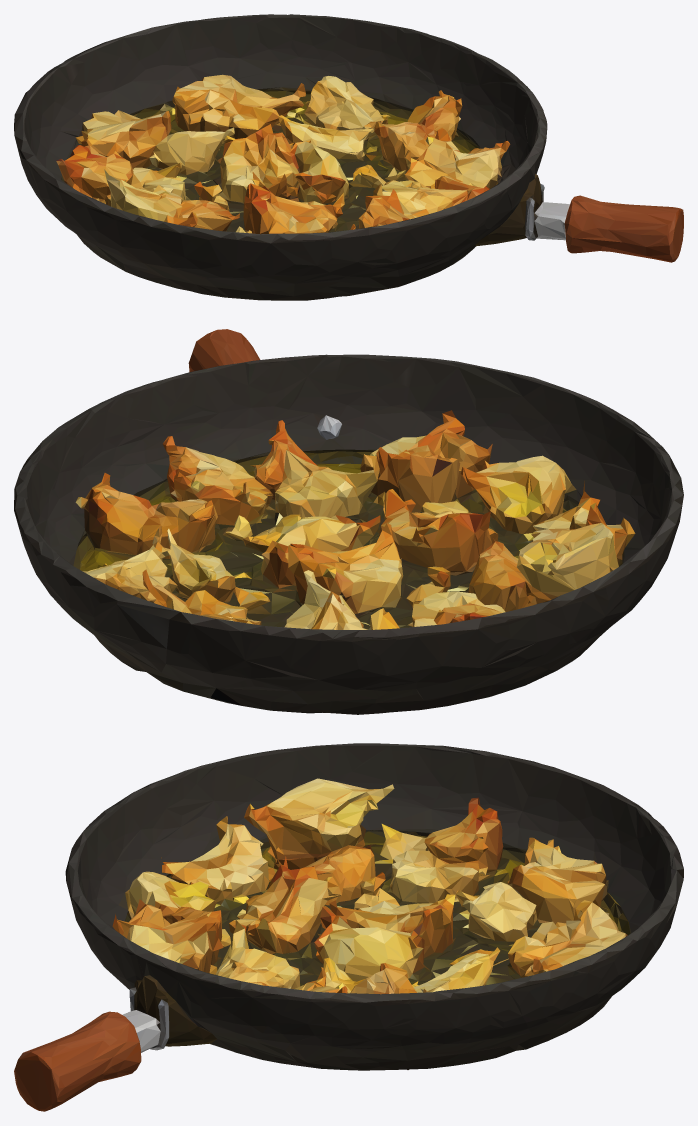
File: pan_garlic.glb
3 renders of one model, top to bottom at view 1: azimuth 30°, elevation 25°; view 2: azimuth 150°, elevation 25°; view 3: azimuth 270°, elevation 25°, orthographic. The views are drawn at different scales.
Visible parts, largest first — view 1: geometry_0; view 2: geometry_0; view 3: geometry_0.
Boxes of the visible parts, left/top/right/bottom form: geometry_0: left=14, top=14, right=683, bottom=300; geometry_0: left=14, top=329, right=683, bottom=714; geometry_0: left=14, top=743, right=683, bottom=1111.
Size of the model in its own units: 0.2749 by 0.0514 by 0.28.
1 material, 1 textured.
